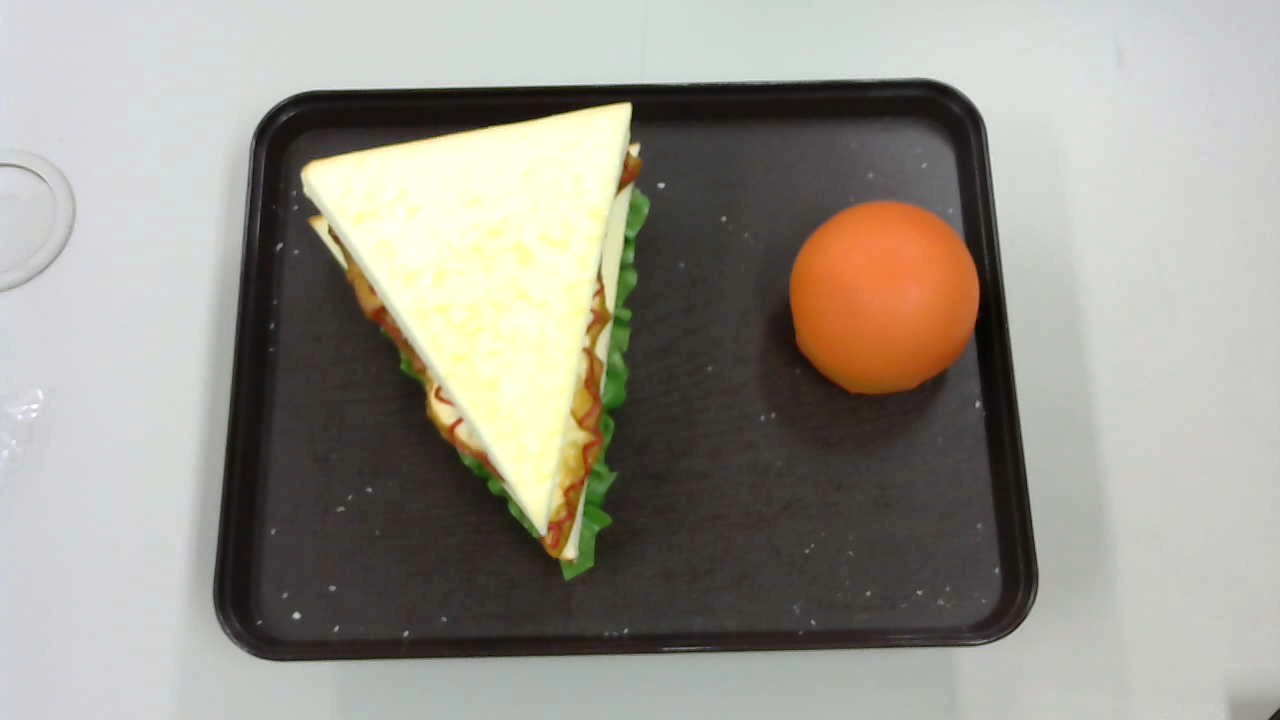bun: (789, 199, 980, 394)
sandwich: (296, 102, 651, 586)
